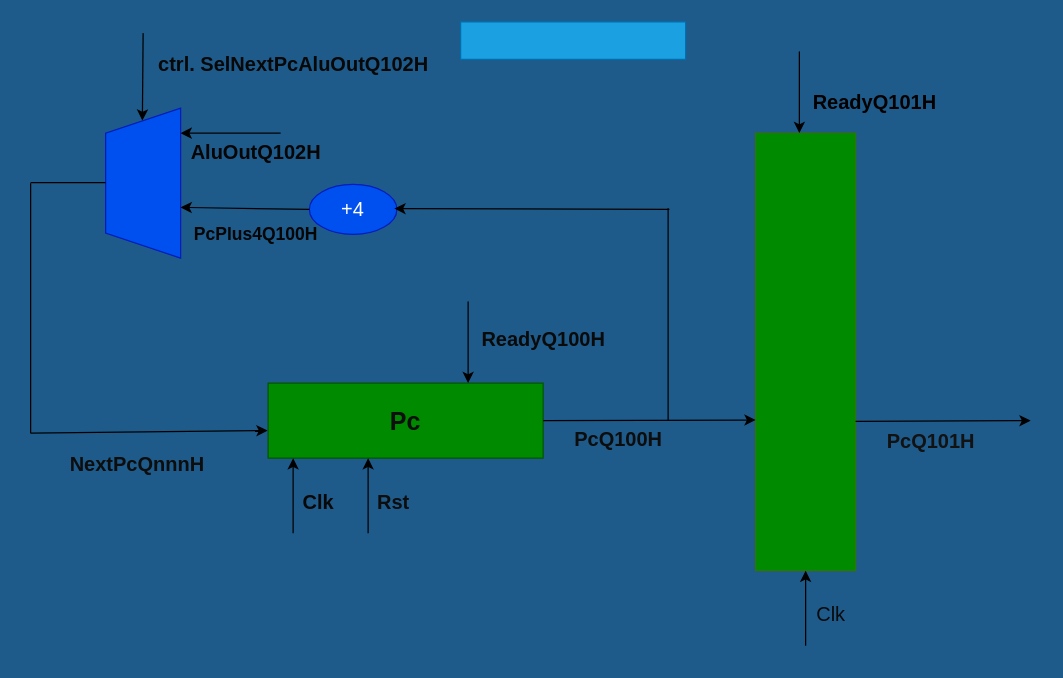
Image size: 1063x678. Some labels were removed from this diagram. Here are the shapes that lost their labels. From the top down, the box of each, then its label:
(459, 21, 686, 59): mini_core_if module
(754, 132, 856, 571): IF/ID
